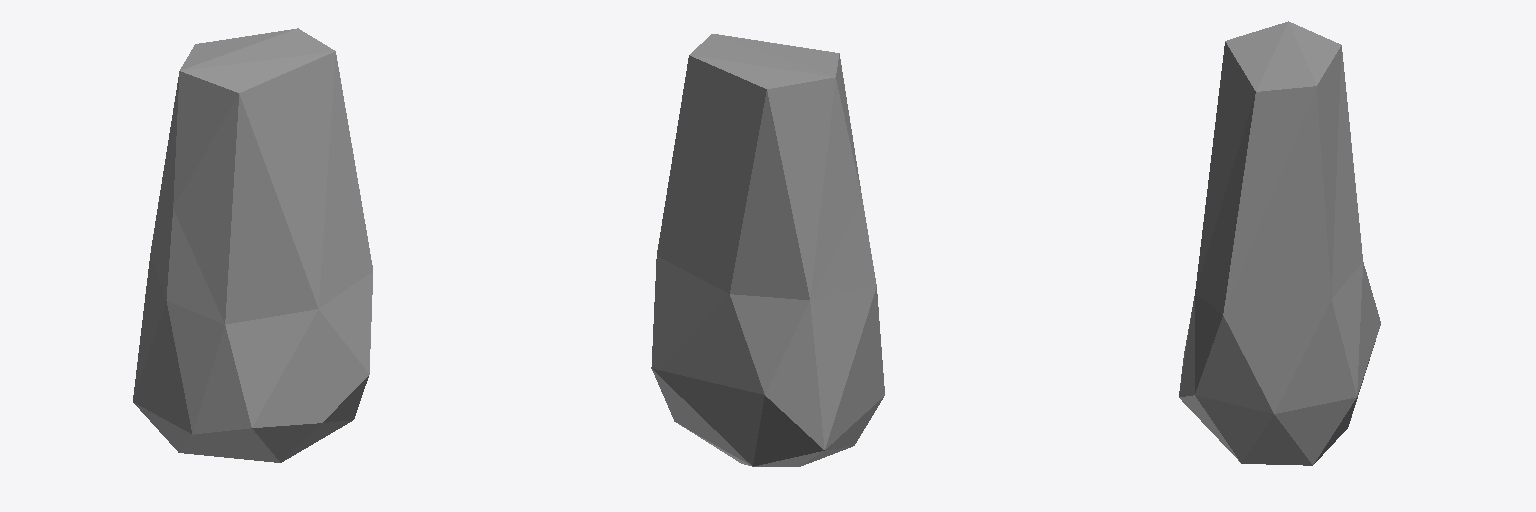
The model's file is Low_Poly_Cuboid_Rock_008.obj.
The picture shows the model from 3 angles: view 1: azimuth 30°, elevation 25°; view 2: azimuth 150°, elevation 25°; view 3: azimuth 270°, elevation 25°; orthographic projection.
Visible parts, largest first — view 1: Low_Poly_Cuboid_Rock_008_Cube; view 2: Low_Poly_Cuboid_Rock_008_Cube; view 3: Low_Poly_Cuboid_Rock_008_Cube.
Part boxes in pixels (x1,y1,x2,y2): Low_Poly_Cuboid_Rock_008_Cube: (133, 28, 372, 462); Low_Poly_Cuboid_Rock_008_Cube: (651, 34, 884, 466); Low_Poly_Cuboid_Rock_008_Cube: (1179, 21, 1380, 465).
Bounding box in the file's own units: 2.05 × 3.94 × 1.81.